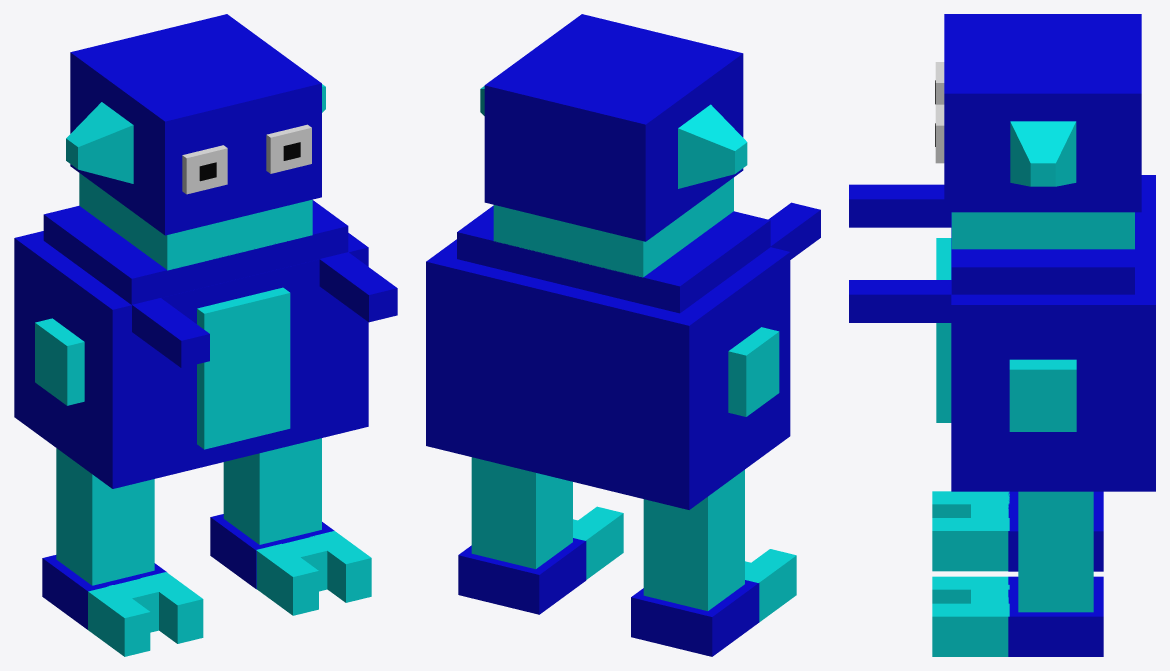
The model's file is robot.fbx.
3 renders of one model, left to right at view 1: azimuth 30°, elevation 25°; view 2: azimuth 150°, elevation 25°; view 3: azimuth 270°, elevation 25°, orthographic. The views are drawn at different scales.
Parts seen in each view (by area): view 1: pCube161, pCube84, pCube85, pCube90, pCube68, pCube100, pCube76, pCube101, pCube88, pCube71, pCube79, pCube80 (+17 smaller); view 2: pCube90, pCube80, pCube72, pCube85, pCube100, pCube83, pCube161, pCube101, pCube82, pCube88, pCube75, pCube74 (+9 smaller); view 3: pCube90, pCube161, pCube83, pCube101, pCube79, pCube75, pCube85, pCube71, pCube88, pCube102, pCube163, pCube87 (+13 smaller).
Part boxes in pixels (x1,y1,x2,y2): pCube161: (124,53,321,235); pCube84: (197,287,290,449); pCube85: (43,200,348,304); pCube90: (70,14,280,204); pCube68: (64,379,198,488); pCube100: (56,448,154,585); pCube76: (63,270,198,399); pCube101: (223,438,321,544); pCube88: (79,173,312,270); pCube71: (283,336,368,447); pCube79: (283,233,368,355); pCube80: (14,231,82,341); pCube90: (484,45,701,241); pCube80: (600,284,739,418); pCube72: (600,390,739,509); pCube85: (457,205,770,313); pCube100: (643,470,744,611); pCube83: (426,239,524,374); pCube161: (540,14,743,200); pCube101: (471,457,572,569); pCube82: (514,275,610,395); pCube88: (493,177,733,277); pCube75: (426,353,514,467); pCube74: (514,375,602,488); pCube90: (1029,14,1141,212); pCube161: (944,14,1029,212); pCube83: (1052,261,1155,398); pCube101: (1018,491,1093,612); pCube79: (951,261,1054,398); pCube75: (1052,397,1155,491); pCube85: (951,249,1134,294); pCube71: (951,397,1054,491); pCube88: (951,212,1134,249); pCube102: (1008,576,1103,656); pCube163: (1009,359,1076,431); pCube87: (849,280,951,322).
Size of the model in its own units: 6.8 by 11.53 by 5.93.
